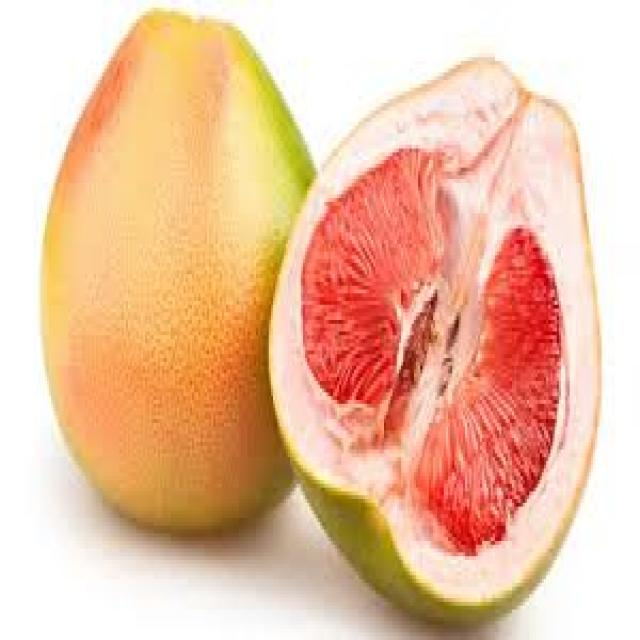organic waste: (264, 49, 602, 628), (41, 8, 322, 541)
